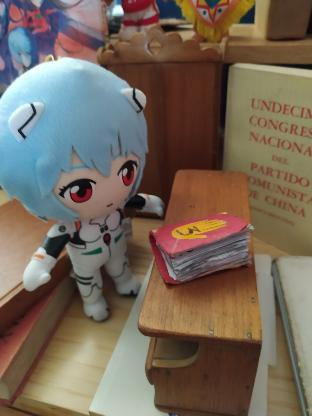rei-plush: (0, 58, 174, 320)
